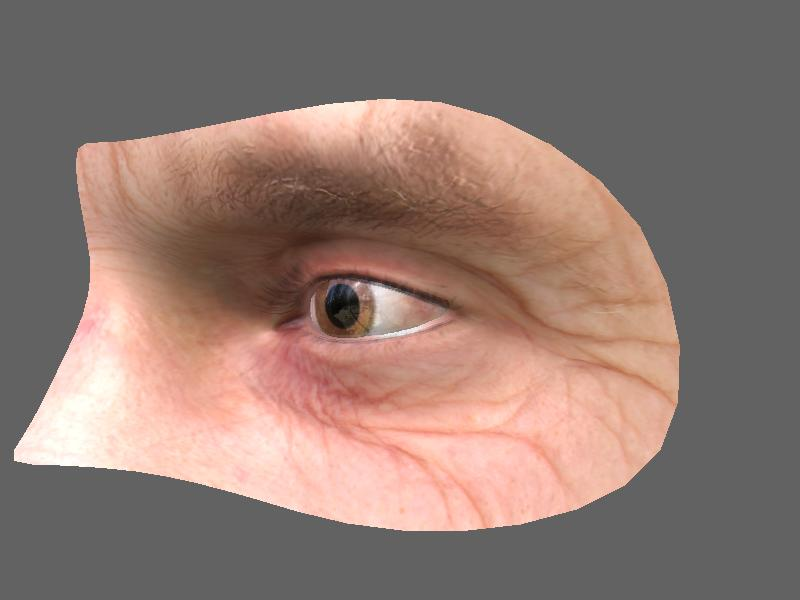iris: (311, 277, 384, 339)
